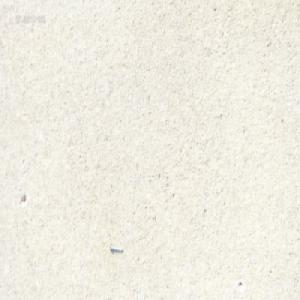Nail: (108, 243, 123, 252)
